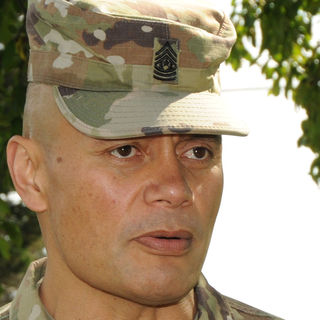eye: (91, 136, 151, 167), (176, 139, 219, 169)
